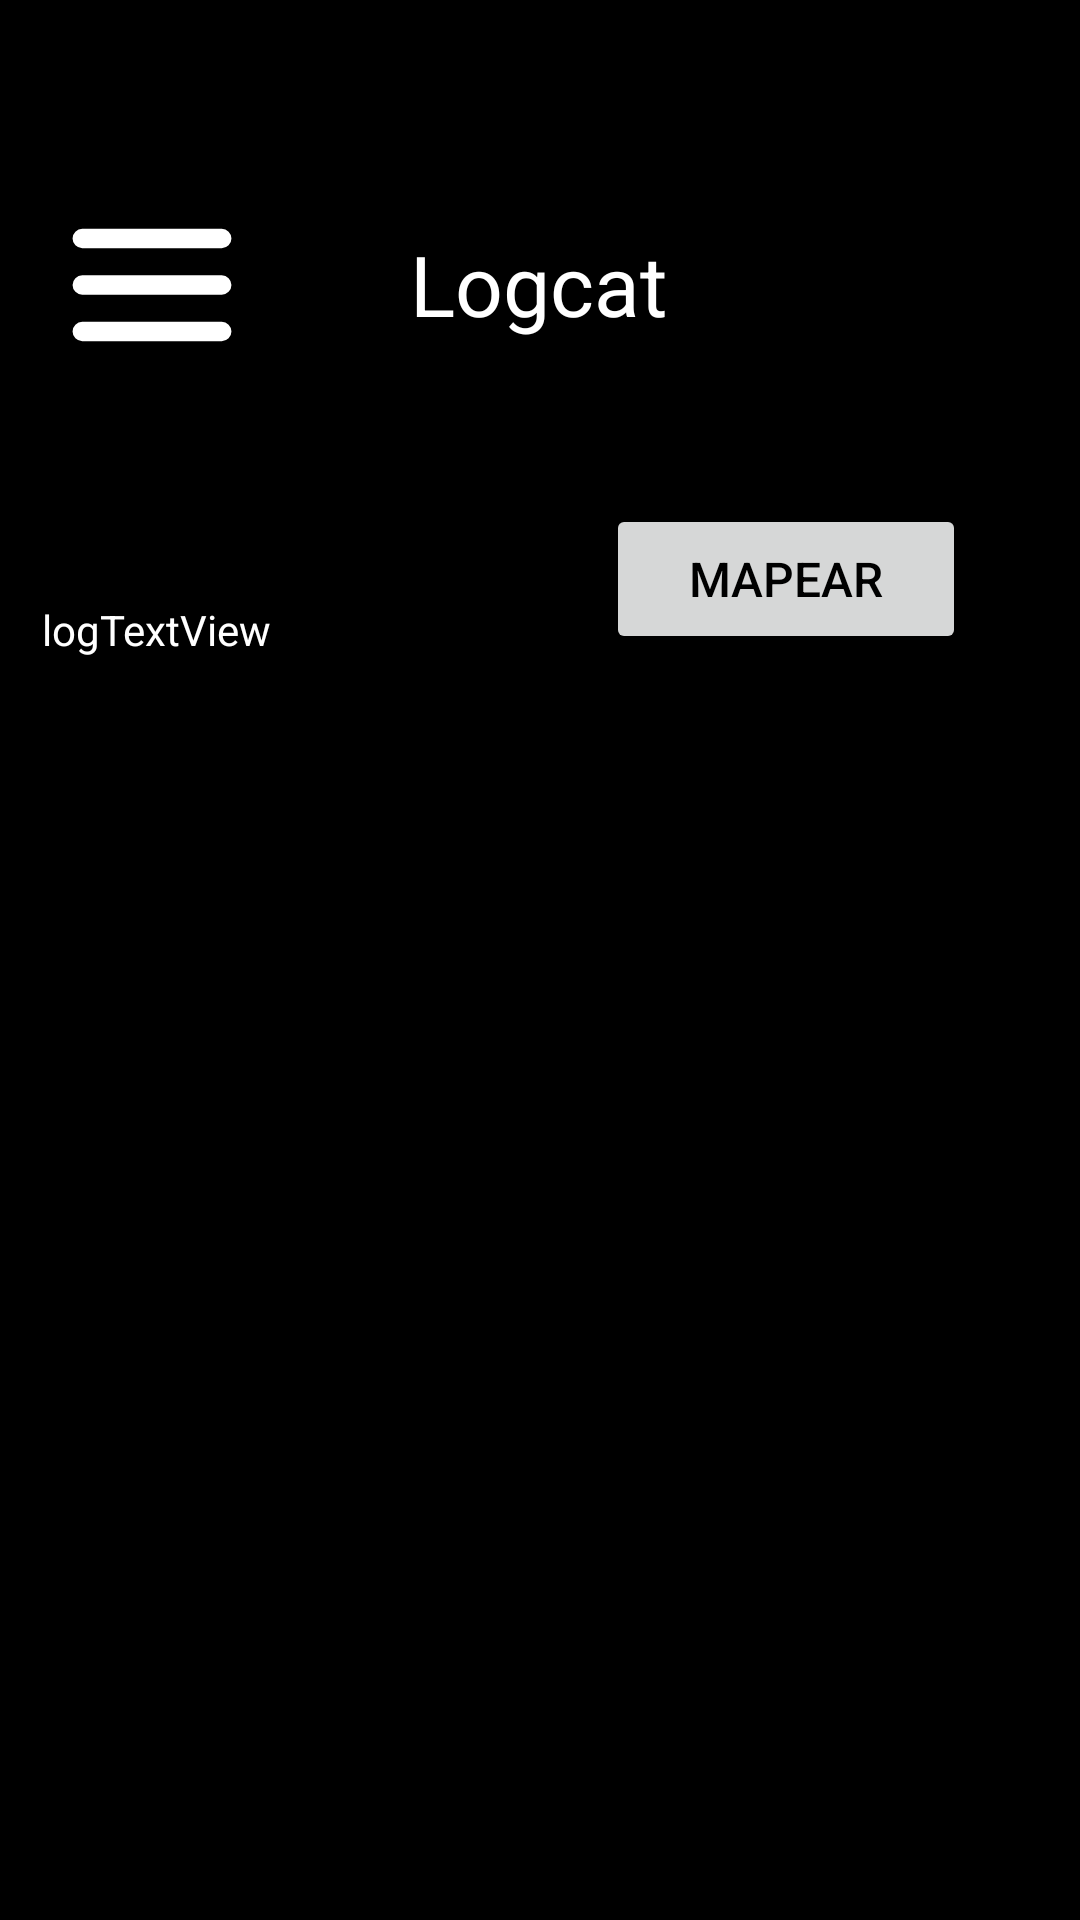

Icon bounding boxes for this 1080w x 1920h phone screenshot, format detection(x1, y1, x2, y2):
Botão para barra lateral: detection(72, 228, 232, 342)
